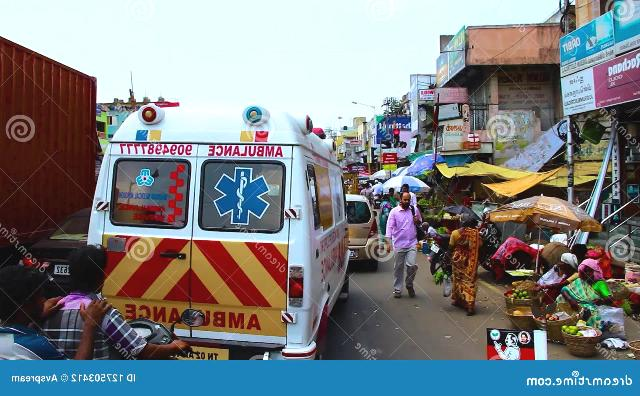ambulance: (76, 95, 353, 359), (332, 98, 339, 105)
